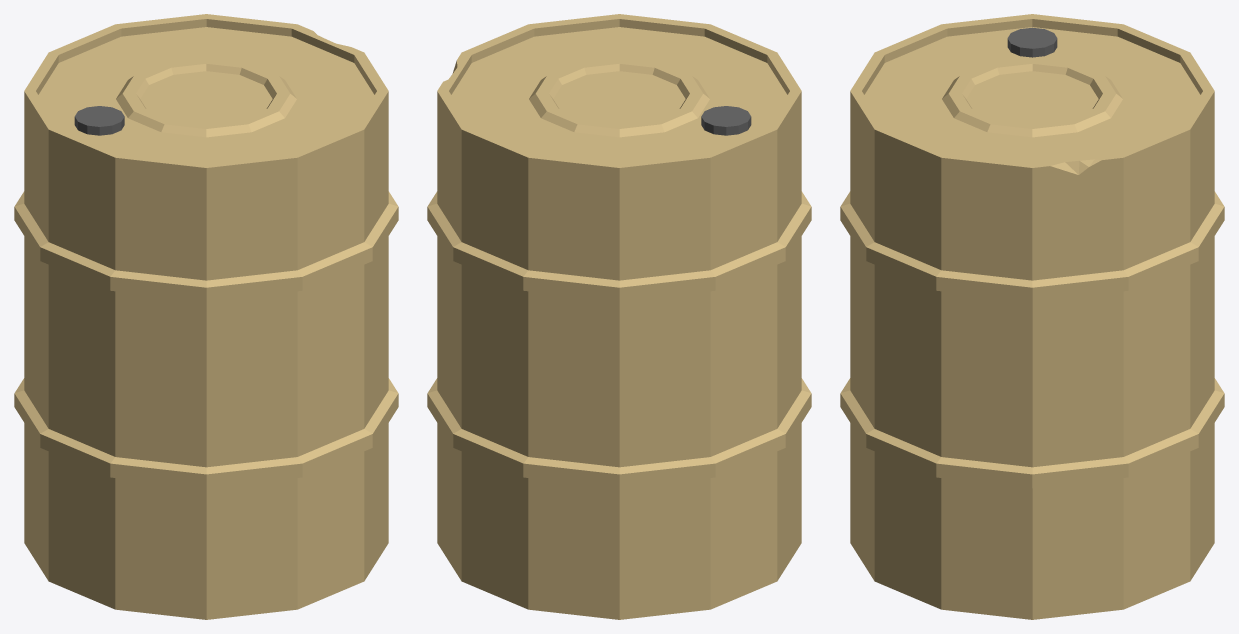
The model's file is Wh_Barrel_01.fbx.
The picture shows the model from 3 angles, left to right: view 1: azimuth 30°, elevation 25°; view 2: azimuth 150°, elevation 25°; view 3: azimuth 270°, elevation 25°; orthographic projection.
Visible parts, largest first — view 1: Cylinder.057; view 2: Cylinder.057; view 3: Cylinder.057.
Boxes of the visible parts, x1,y1,x2,y2 form: Cylinder.057: (14,14,398,619); Cylinder.057: (427,14,811,619); Cylinder.057: (840,14,1224,619).
Bounding box in the file's own units: 76.93 × 100 × 76.93.
